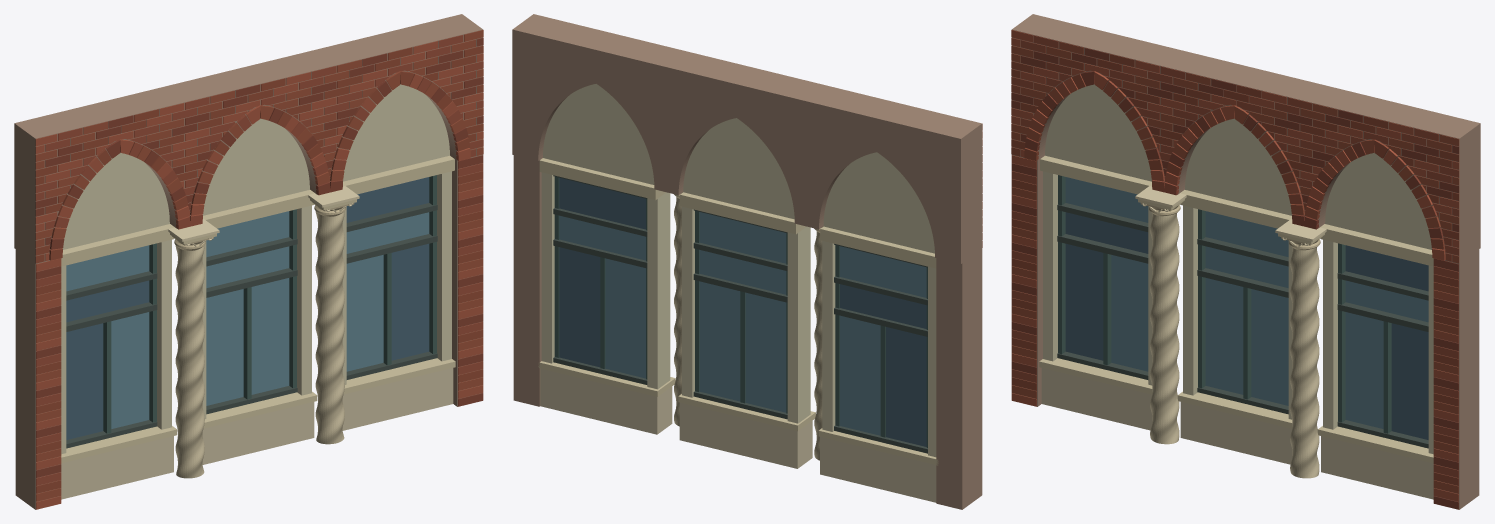
Rendered from jingan-percy-woo-three-pointed-arches-web.glb.
The picture shows the model from 3 angles, left to right: view 1: azimuth 30°, elevation 25°; view 2: azimuth 150°, elevation 25°; view 3: azimuth 330°, elevation 25°; orthographic projection.
Visible parts, largest first — view 1: 吴培初住宅三联尖券窗与双螺旋石柱; view 2: 吴培初住宅三联尖券窗与双螺旋石柱; view 3: 吴培初住宅三联尖券窗与双螺旋石柱.
Boxes of the visible parts, left/top/right/bottom form: 吴培初住宅三联尖券窗与双螺旋石柱: left=14, top=14, right=483, bottom=509; 吴培初住宅三联尖券窗与双螺旋石柱: left=512, top=14, right=982, bottom=509; 吴培初住宅三联尖券窗与双螺旋石柱: left=1011, top=14, right=1480, bottom=509.
Bounding box in the file's own units: 3.9 × 3.09 × 0.494.
